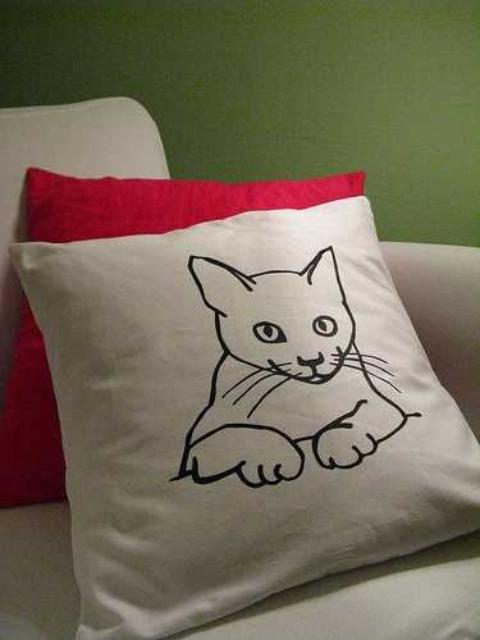pillow: (8, 191, 478, 639)
